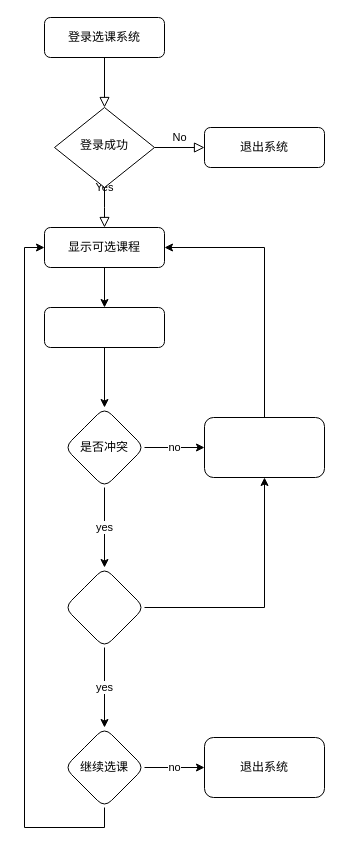
This 342x853 diagram has some shape labels left out. Here are the shapes that lost their labels. From the top down, the centre of each, then its label:
pixel 104 327: 选课
pixel 264 447: 选课失败
pixel 104 607: 是否成功
